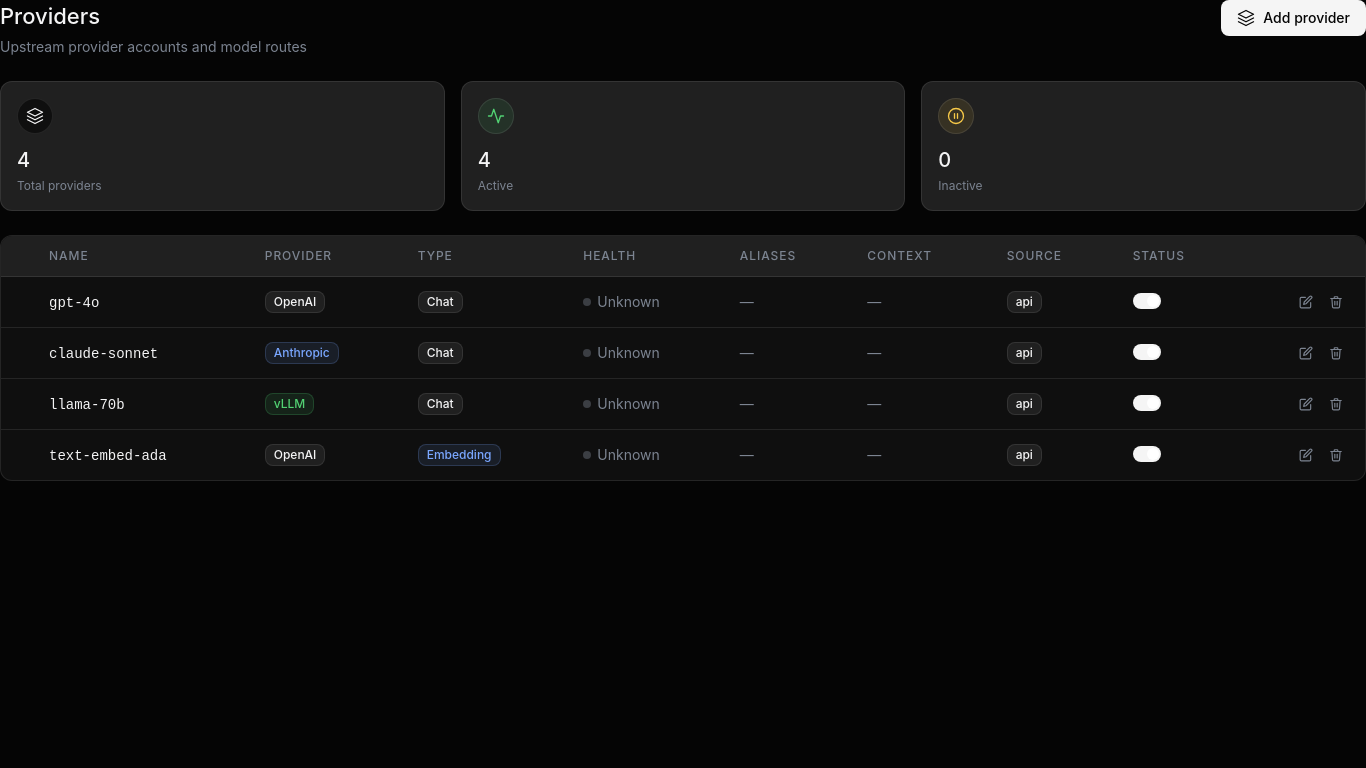
it: EditModelDialog — Fallback Model field › loads existing fallback_model_name into the Select
The width and height of the screenshot is (1366, 768).
Click the button titled "Edit model" in the row of "gpt-4o" at (1306, 302), box [1293,289,1319,315]
(page scrolled)
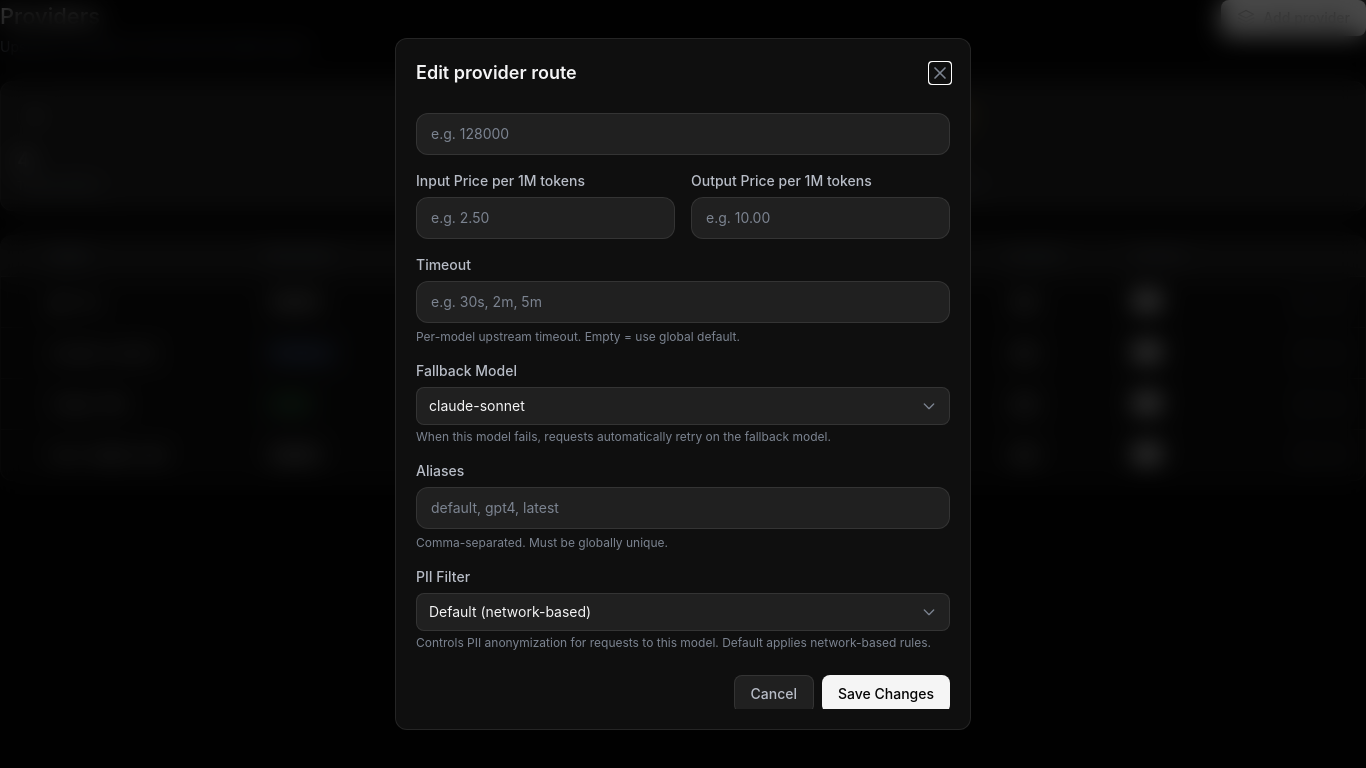
Check: the heading "Edit provider route" is shown, box [416,59,577,87]
Check: the dropdown labelled "claude-sonnet" is shown, box [416,387,950,425]
